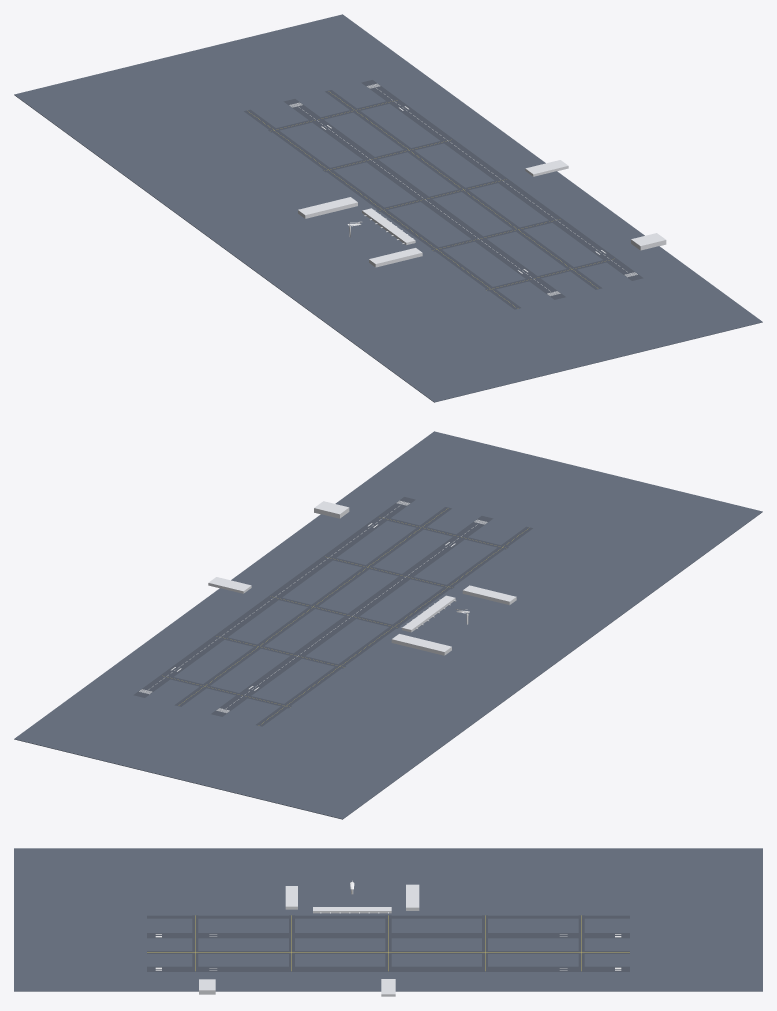
File: incheon_airport.glb
3 renders of one model, top to bottom at view 1: azimuth 30°, elevation 25°; view 2: azimuth 150°, elevation 25°; view 3: azimuth 270°, elevation 25°, orthographic. The views are drawn at different scales.
Visible parts, largest first — view 1: Incheon_Airfield_And_Dual_Runways, Incheon_Terminals_Concourse_And_Tower; view 2: Incheon_Airfield_And_Dual_Runways, Incheon_Terminals_Concourse_And_Tower; view 3: Incheon_Airfield_And_Dual_Runways, Incheon_Terminals_Concourse_And_Tower.
Part boxes in pixels (x1,y1,x2,y2): Incheon_Airfield_And_Dual_Runways: [14, 14, 762, 402]; Incheon_Terminals_Concourse_And_Tower: [298, 160, 666, 267]; Incheon_Airfield_And_Dual_Runways: [14, 431, 762, 819]; Incheon_Terminals_Concourse_And_Tower: [208, 501, 516, 655]; Incheon_Airfield_And_Dual_Runways: [14, 848, 762, 991]; Incheon_Terminals_Concourse_And_Tower: [199, 880, 419, 996].
Bounding box in the file's own units: 2900 × 128 × 6200.
